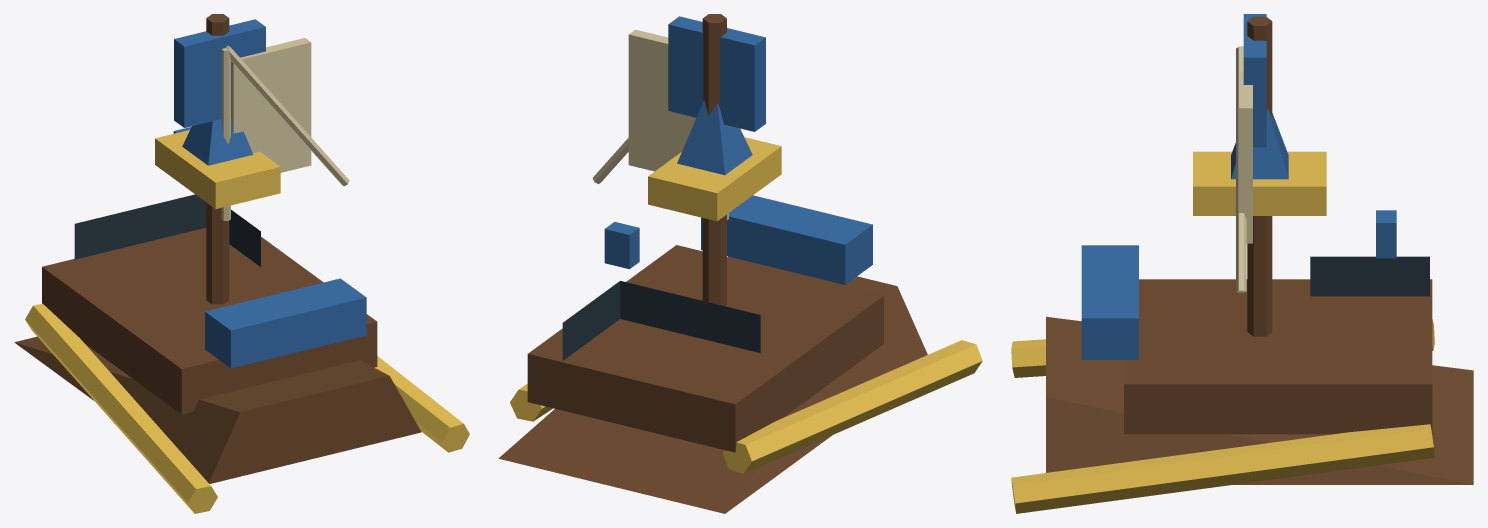
Rendered from raft.obj.
3 views of the same model, side by side, from view 1: azimuth 30°, elevation 25°; view 2: azimuth 150°, elevation 25°; view 3: azimuth 270°, elevation 25° (orthographic). The views are drawn at different scales.
Parts seen in each view (by area): view 1: ship; view 2: ship; view 3: ship.
Boxes of the visible parts, <box> form: ship: <box>14,14,469,513</box>; ship: <box>498,14,982,513</box>; ship: <box>1011,14,1473,513</box>.
Size of the model in its own units: 1.56 by 2.02 by 2.01.
